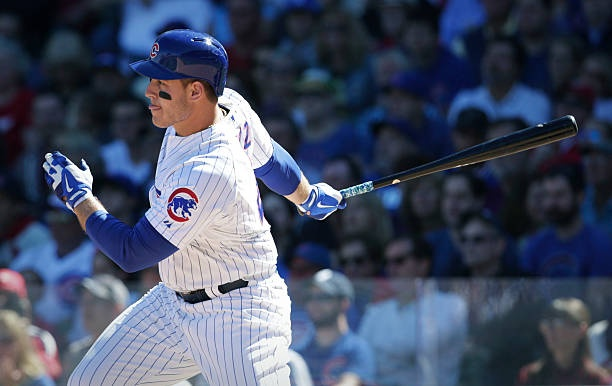bita: (330, 114, 579, 199)
